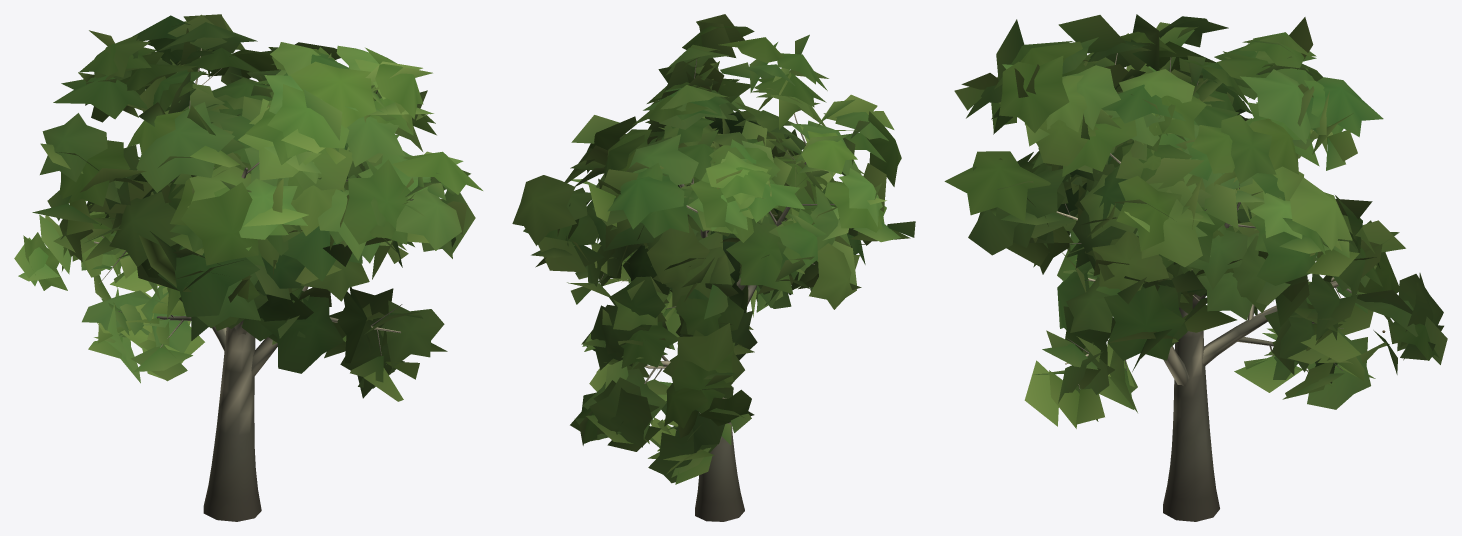
3 renders of one model, left to right at view 1: azimuth 30°, elevation 25°; view 2: azimuth 150°, elevation 25°; view 3: azimuth 270°, elevation 25°, orthographic. The views are drawn at different scales.
Bounding box in the file's own units: 9.31 × 10.23 × 9.59.
